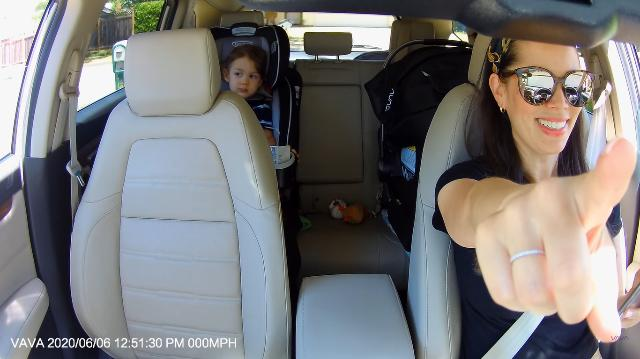no seatbelt: (208, 50, 292, 154)
seatbelt: (442, 55, 640, 359)
